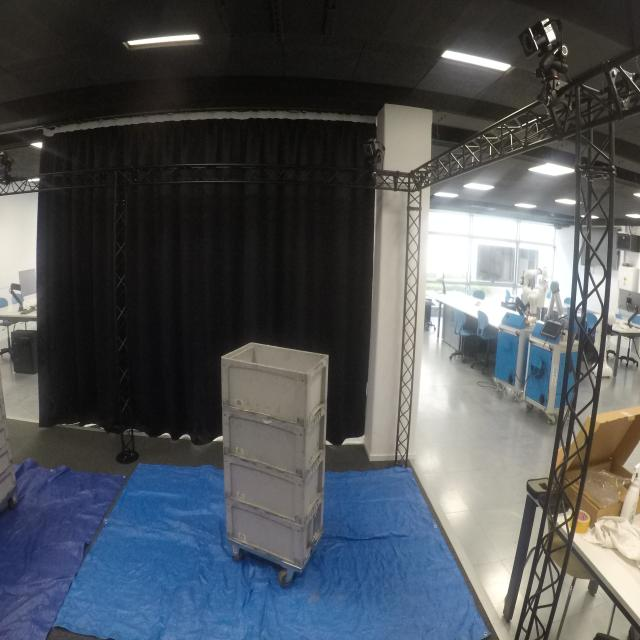Box4G: (218, 338, 333, 426), (220, 446, 332, 528), (217, 402, 330, 478), (223, 497, 326, 573)
